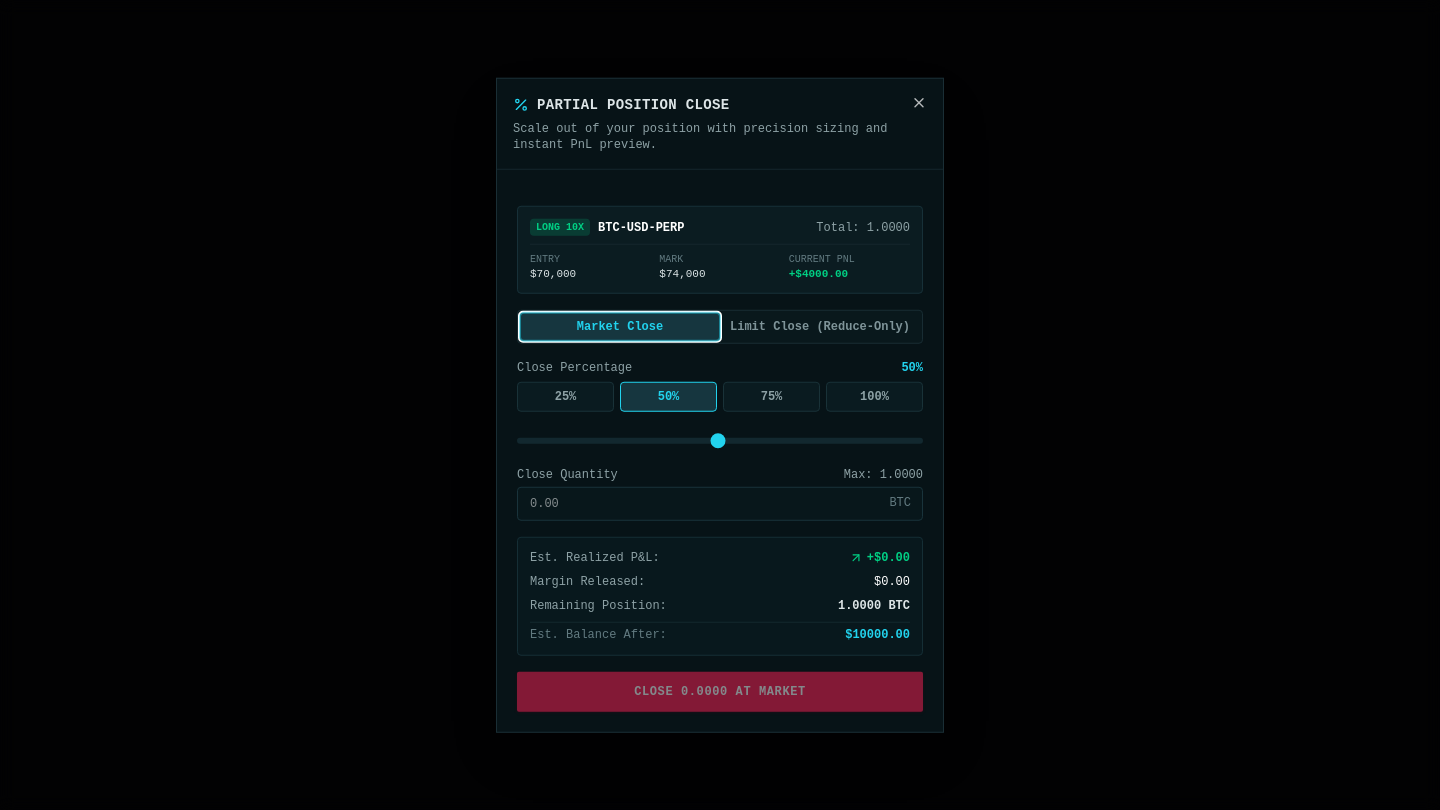
Test case: PartialCloseModal › updates close quantity when percentage button is clicked
This screenshot has width=1440, height=810.
// Click 25% button
Click the button "25%". click: (566, 397)
box: 517,382 -> 614,412
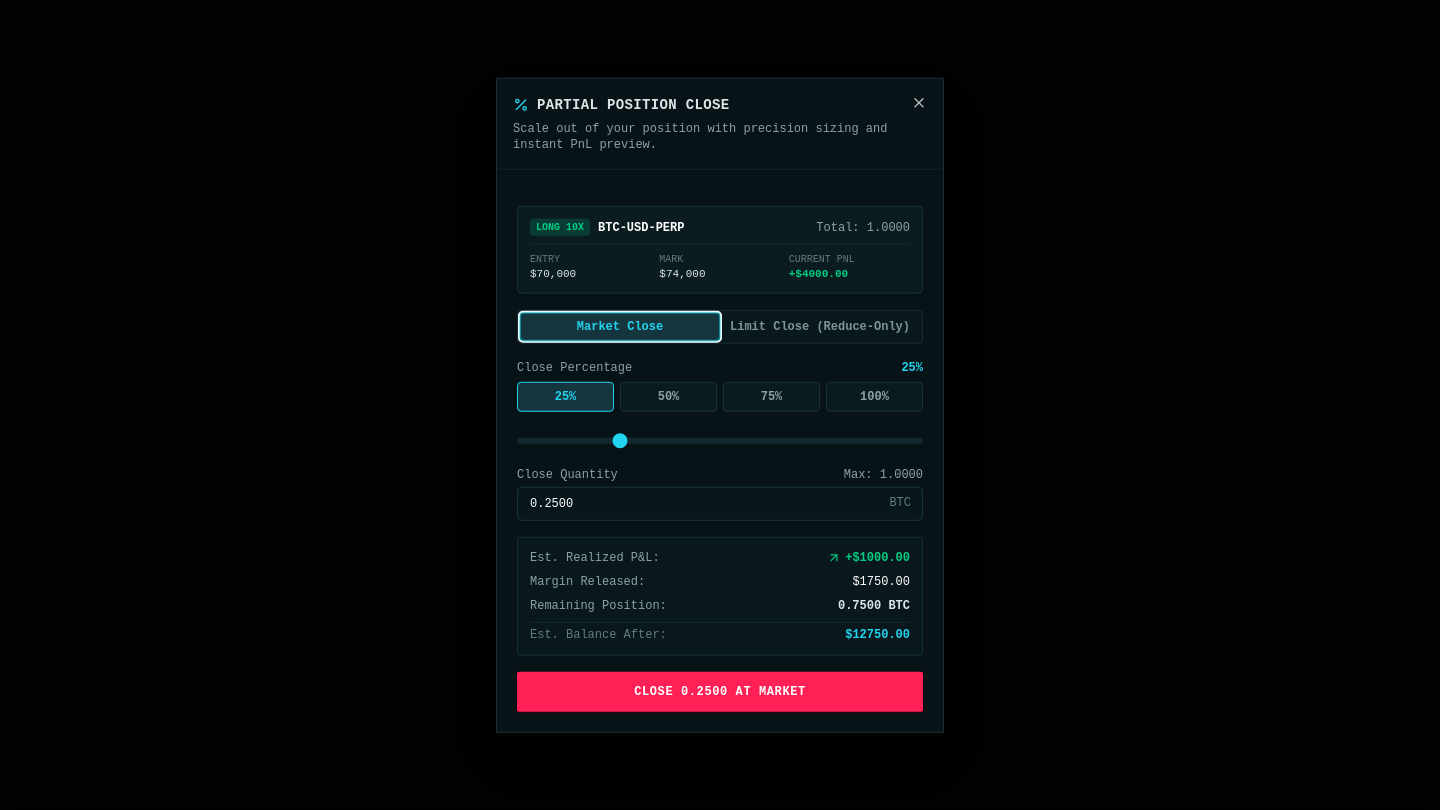
expect the number field with placeholder "0.00" holds "0.2500": met, box 517,486 -> 923,520
